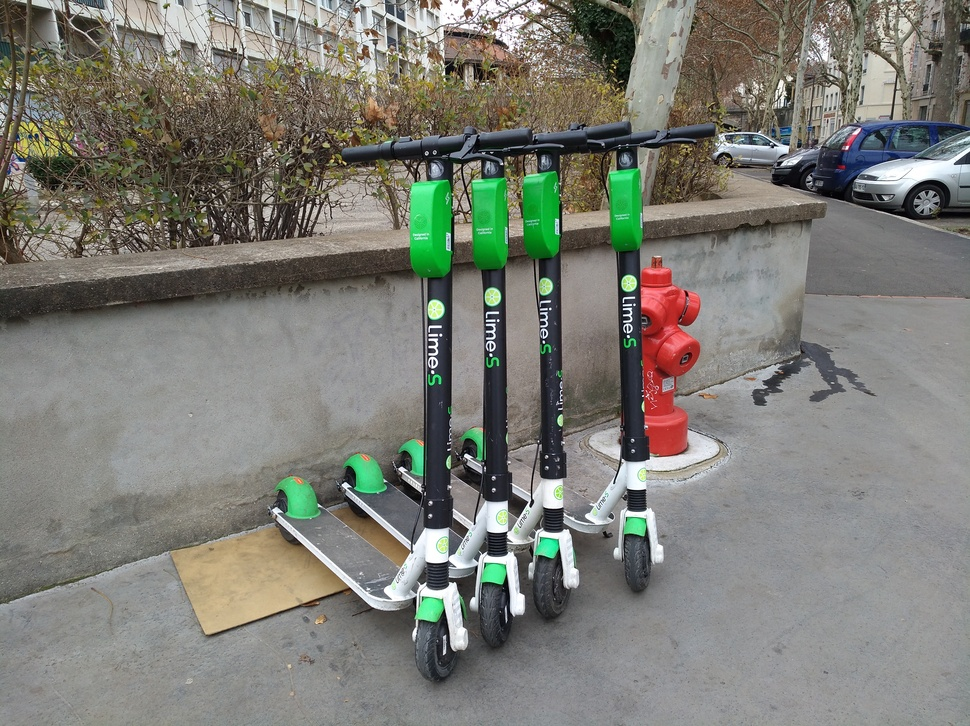scooter: (246, 135, 464, 687), (567, 129, 706, 594), (506, 137, 604, 615)
